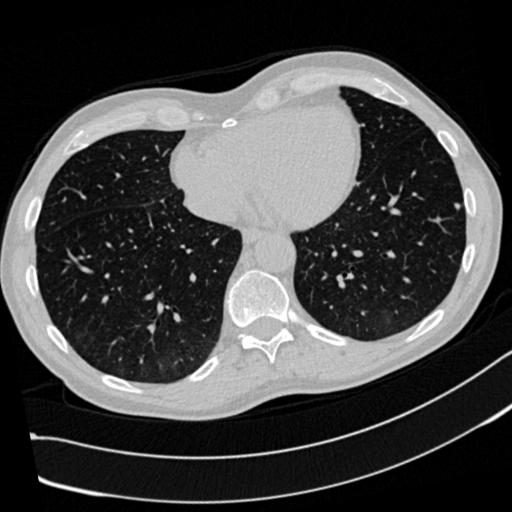nodule: (450, 200, 464, 214)
